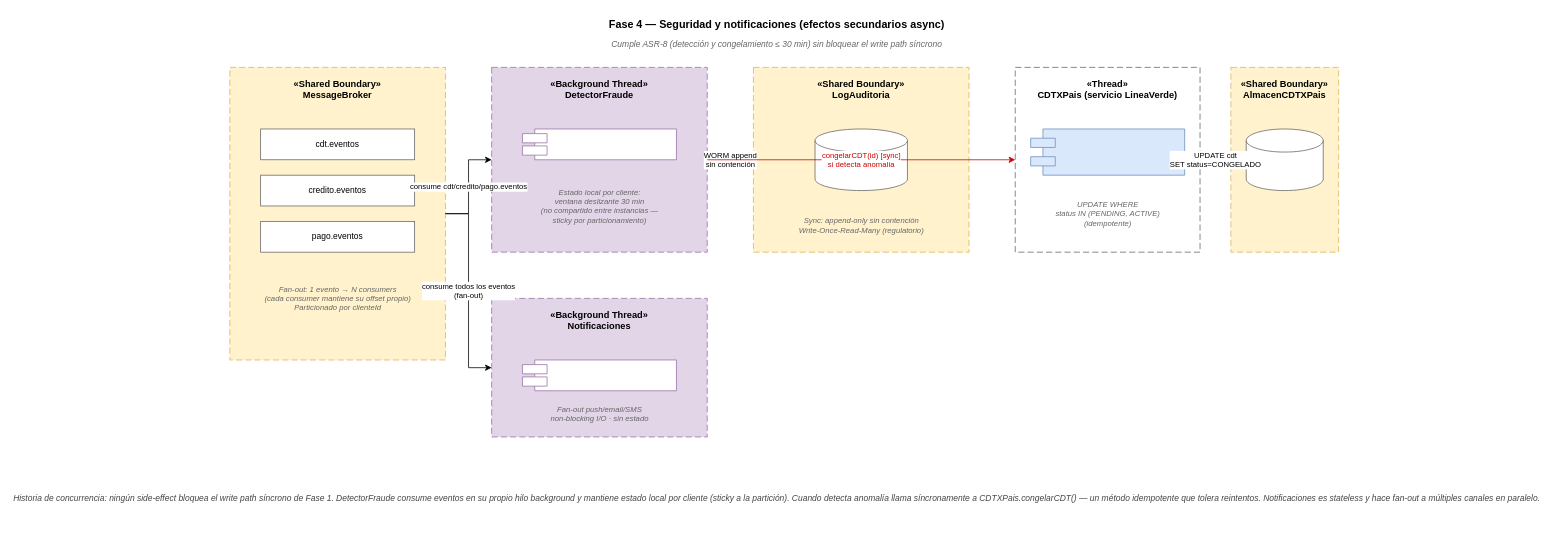
Some shapes in this 1553 by 542 pixel diagram are drawn without their labels. The centre of each missing label's shape, as x and y in pixels:
"append-only log" belongs at [860,159].
"congelarCDT(id, motivo)" belongs at [1107,151].
"DetectorFraude" belongs at [599,144].
"Notificaciones" belongs at [599,375].
"tabla cdt" belongs at [1284,159].
